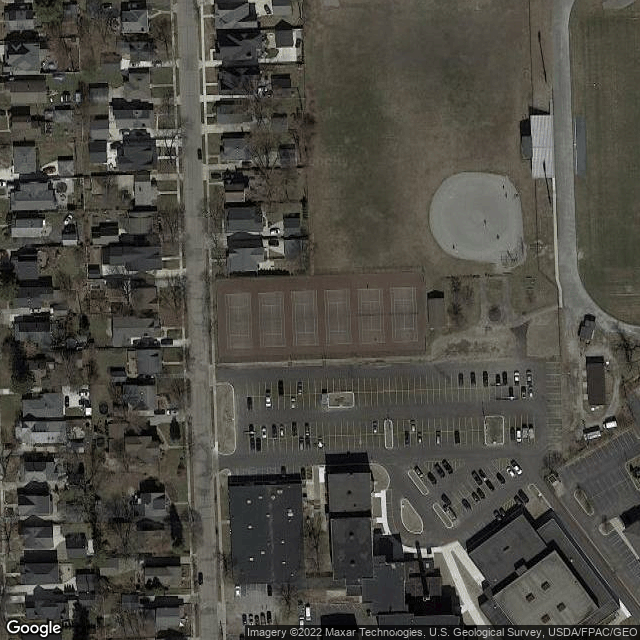Court: (389, 286, 418, 344), (224, 295, 253, 351), (290, 291, 319, 347), (325, 290, 354, 346), (357, 288, 385, 345), (258, 294, 285, 348)
